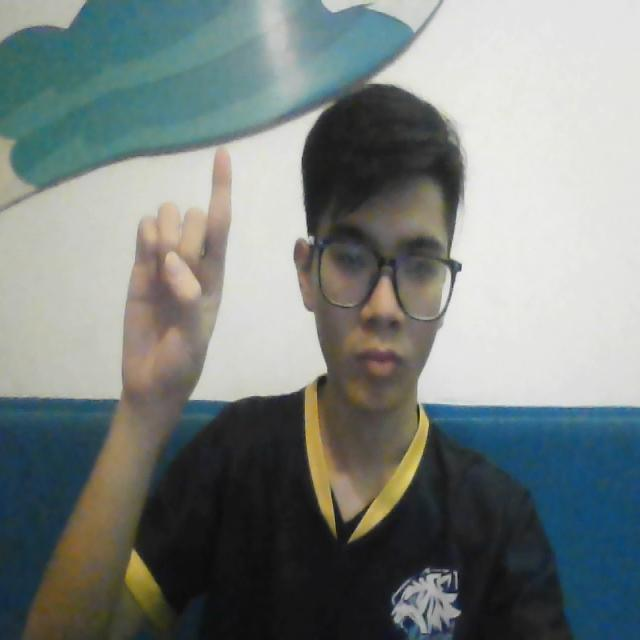D: (109, 146, 235, 408)
